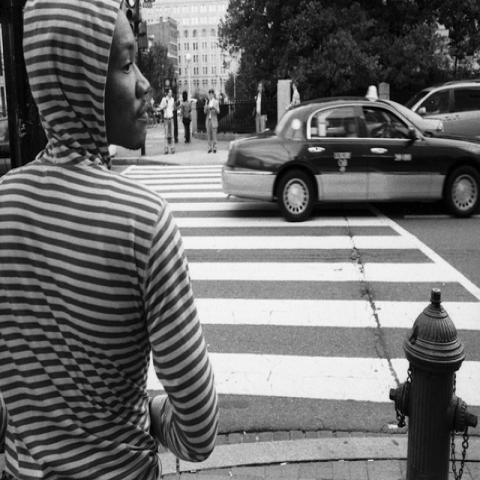car: (219, 90, 479, 222), (409, 80, 479, 148), (191, 94, 198, 105)
